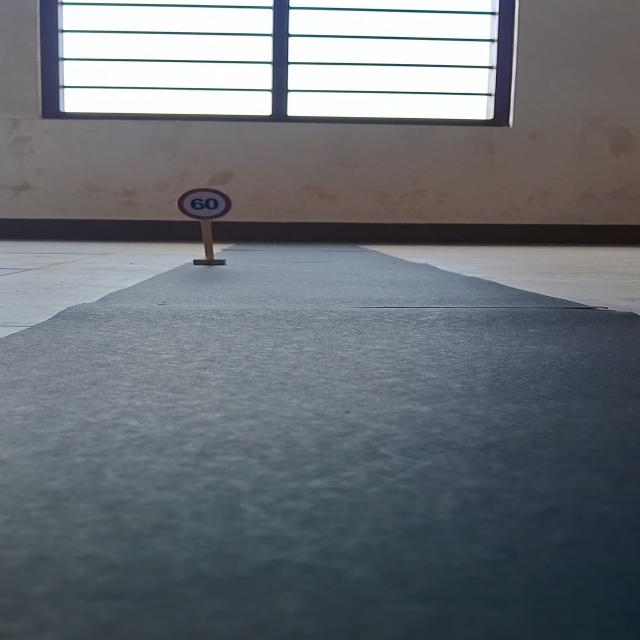Speed60: (177, 187, 234, 223)
